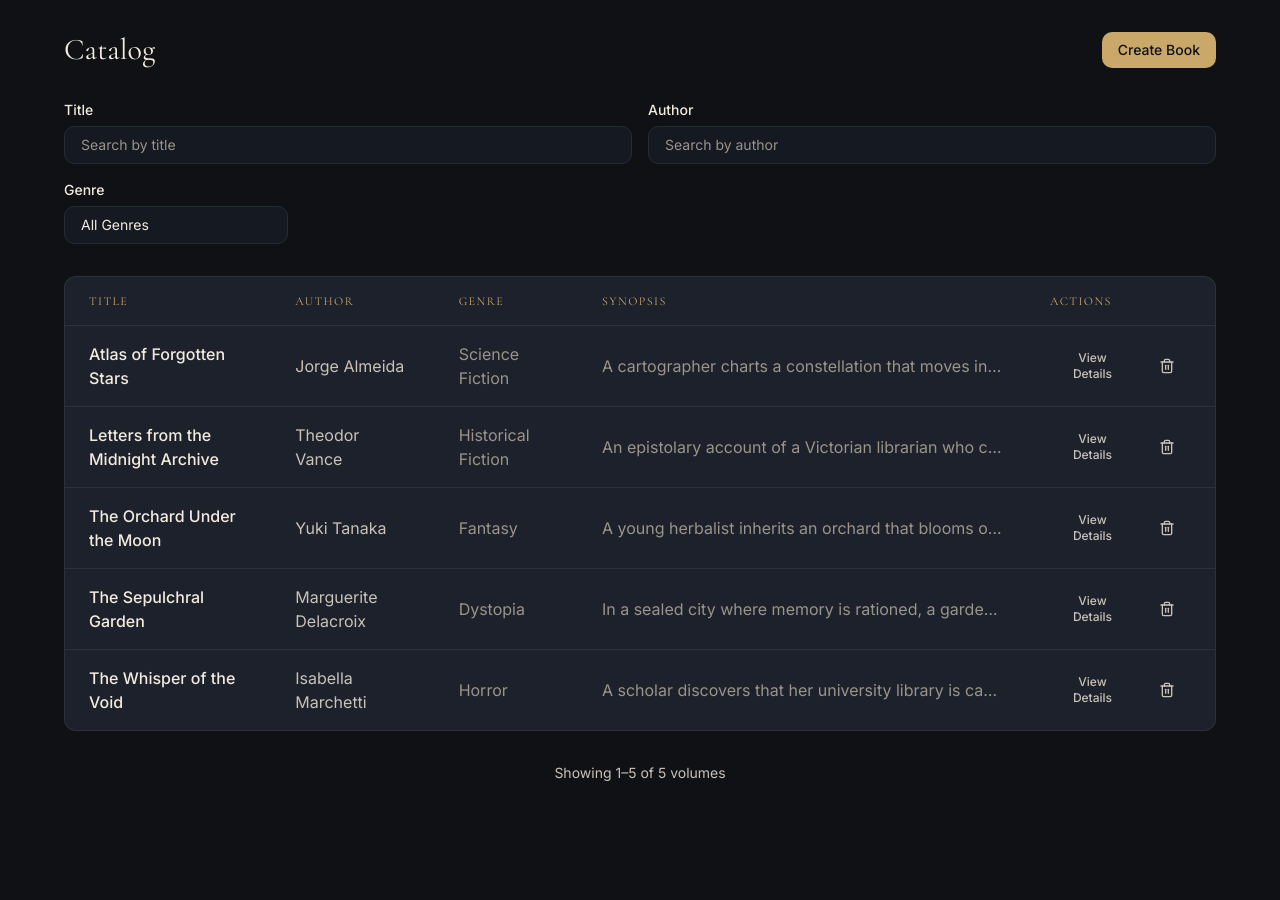
Test: BooksPage › deletes a book through the confirmation flow and refreshes the list
Check: the text "The Whisper of the Void" is shown, box [65,650,271,730]
Check: the number of rows is 6, box [65,277,1215,326]; [65,326,1215,406]; [65,406,1215,488]; [65,488,1215,568]; [65,568,1215,650]; [65,650,1215,730]
Click the button named "Delete The Whisper of the Void" at (1167, 690), box [1143,674,1191,706]
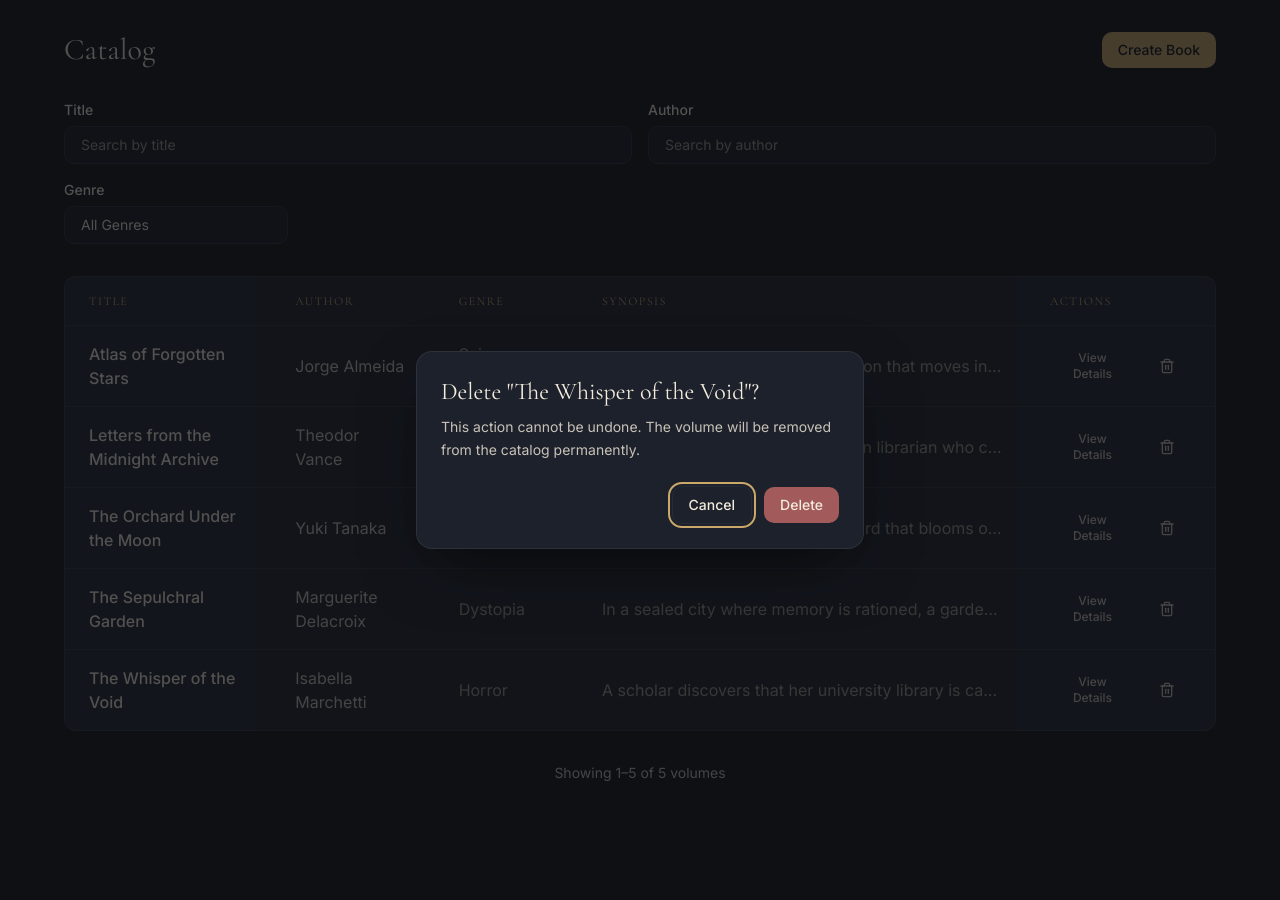
Click the button "Delete" at (802, 505), box [764,487,839,523]
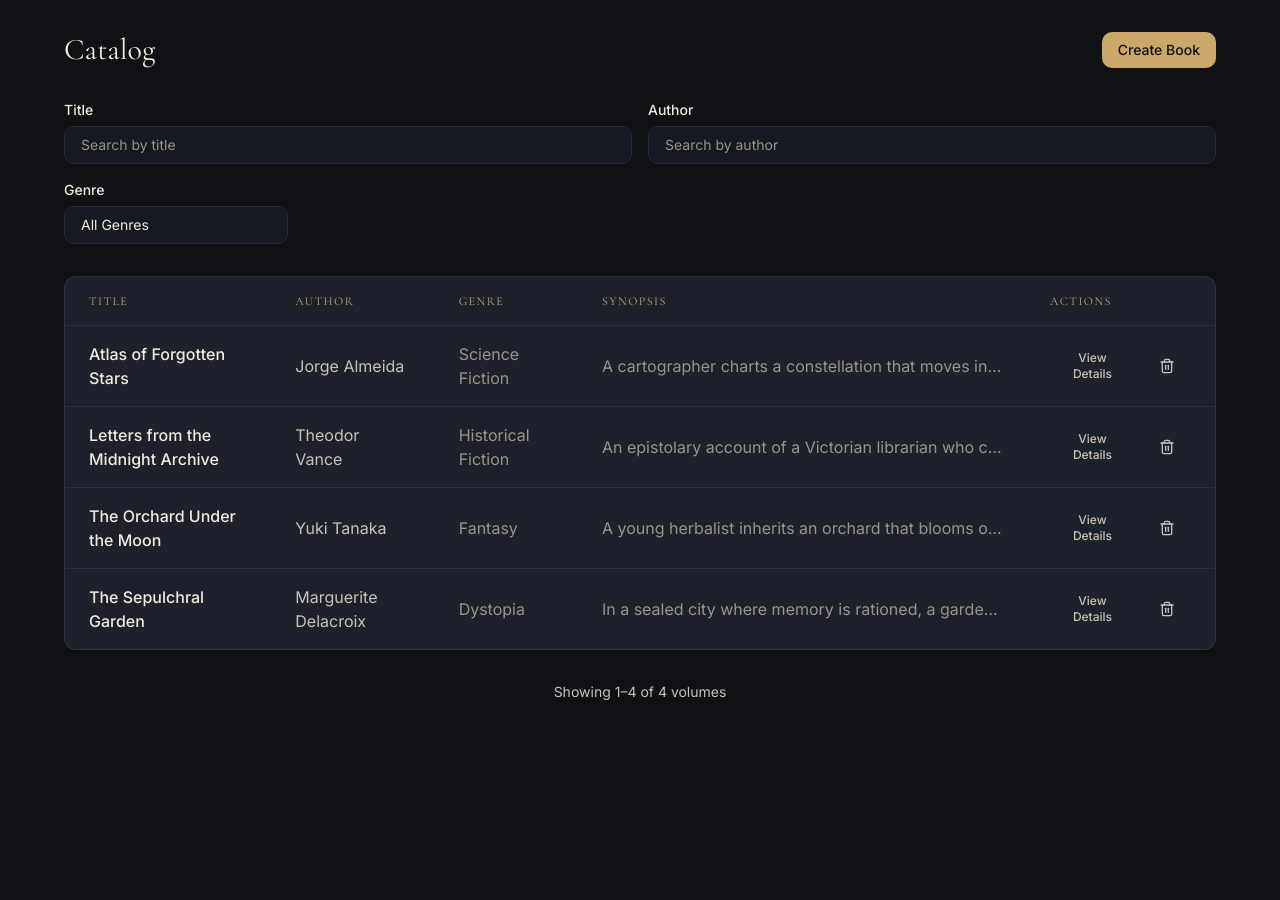
Check: the number of rows is 5, box [65,277,1215,326]; [65,326,1215,406]; [65,406,1215,488]; [65,488,1215,568]; [65,568,1215,649]
Check: the text "The Whisper of the Void" is gone
